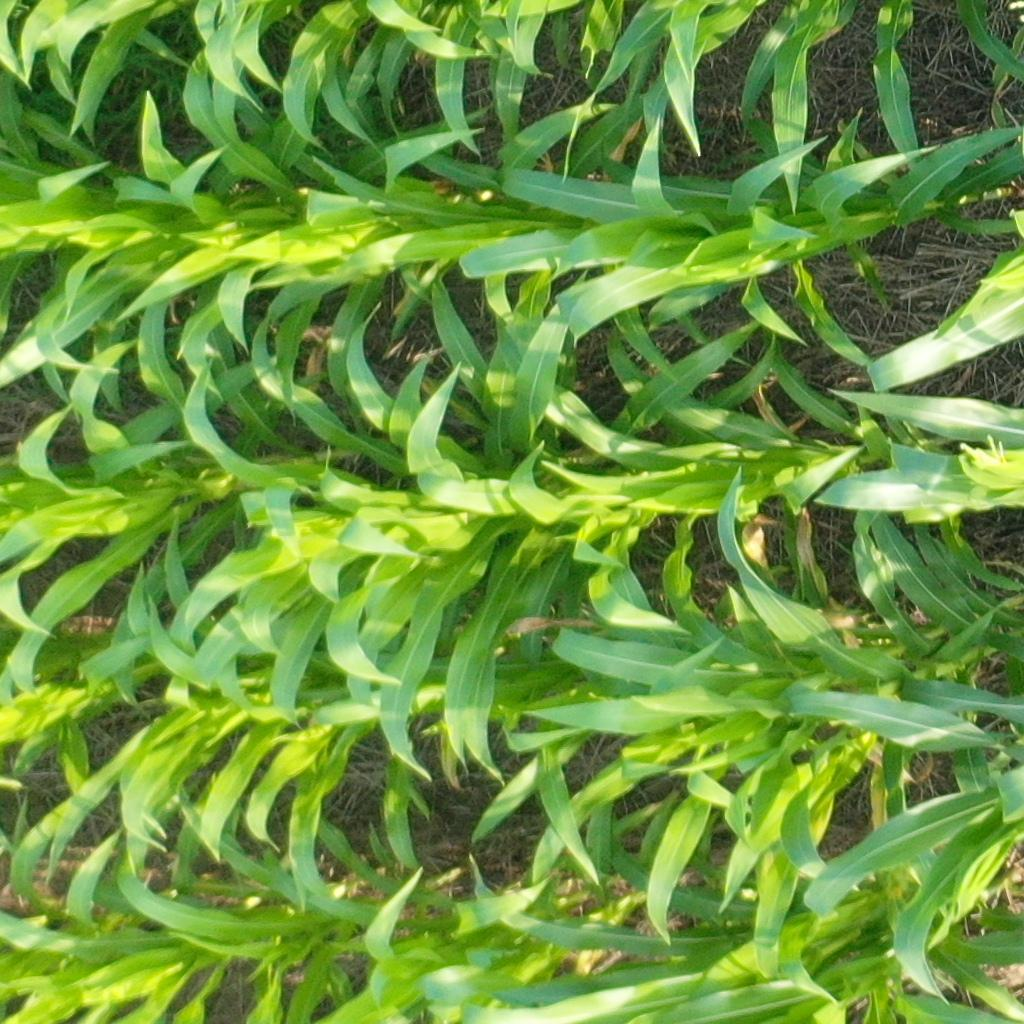Tassel: (950, 428, 1011, 484)
